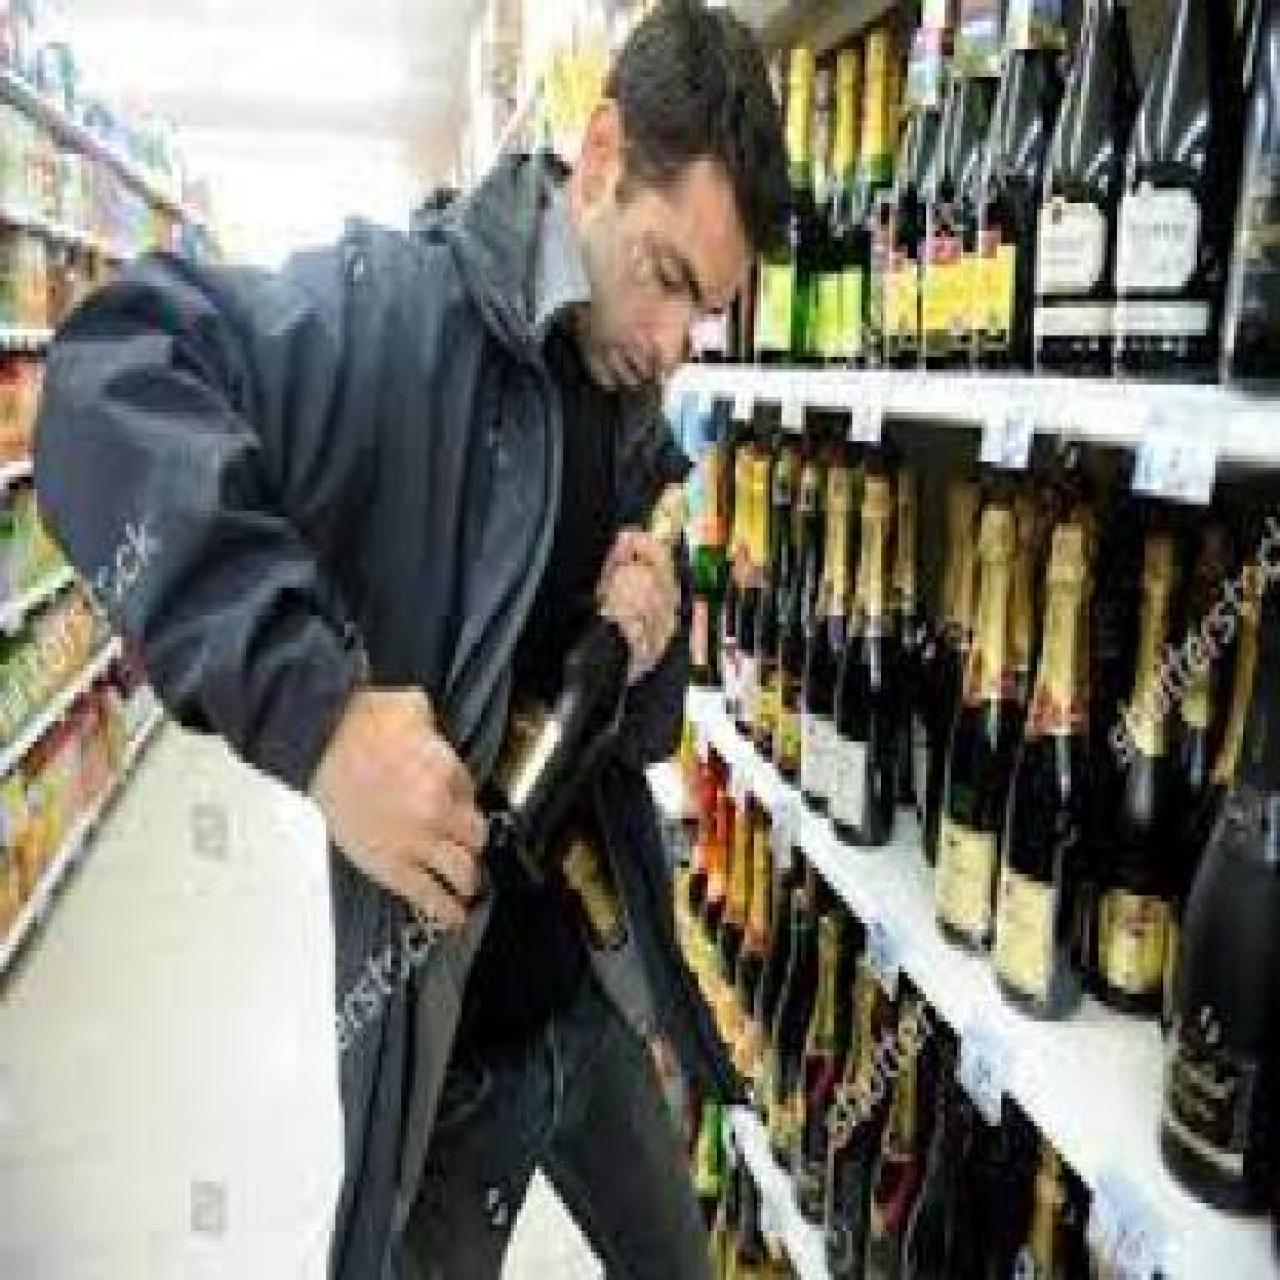Shoplifting: (279, 98, 1048, 1253), (345, 166, 1081, 1280)
